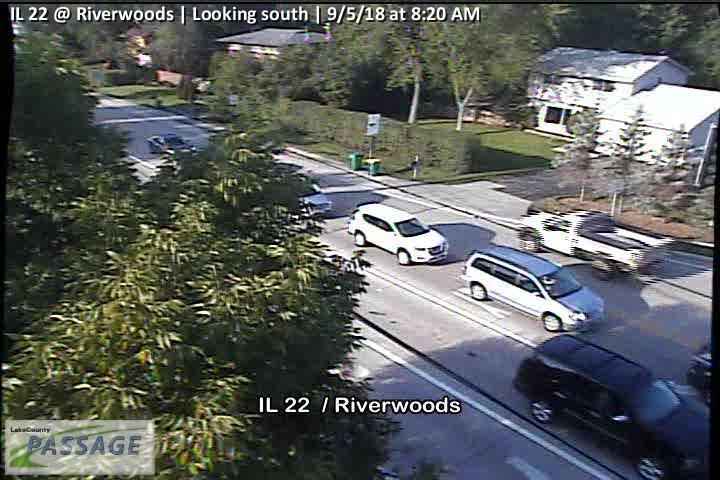SUV: (511, 335, 712, 480), (465, 246, 605, 333), (347, 202, 449, 266)
Sedan: (145, 134, 197, 158)
Truck: (518, 210, 667, 281)
